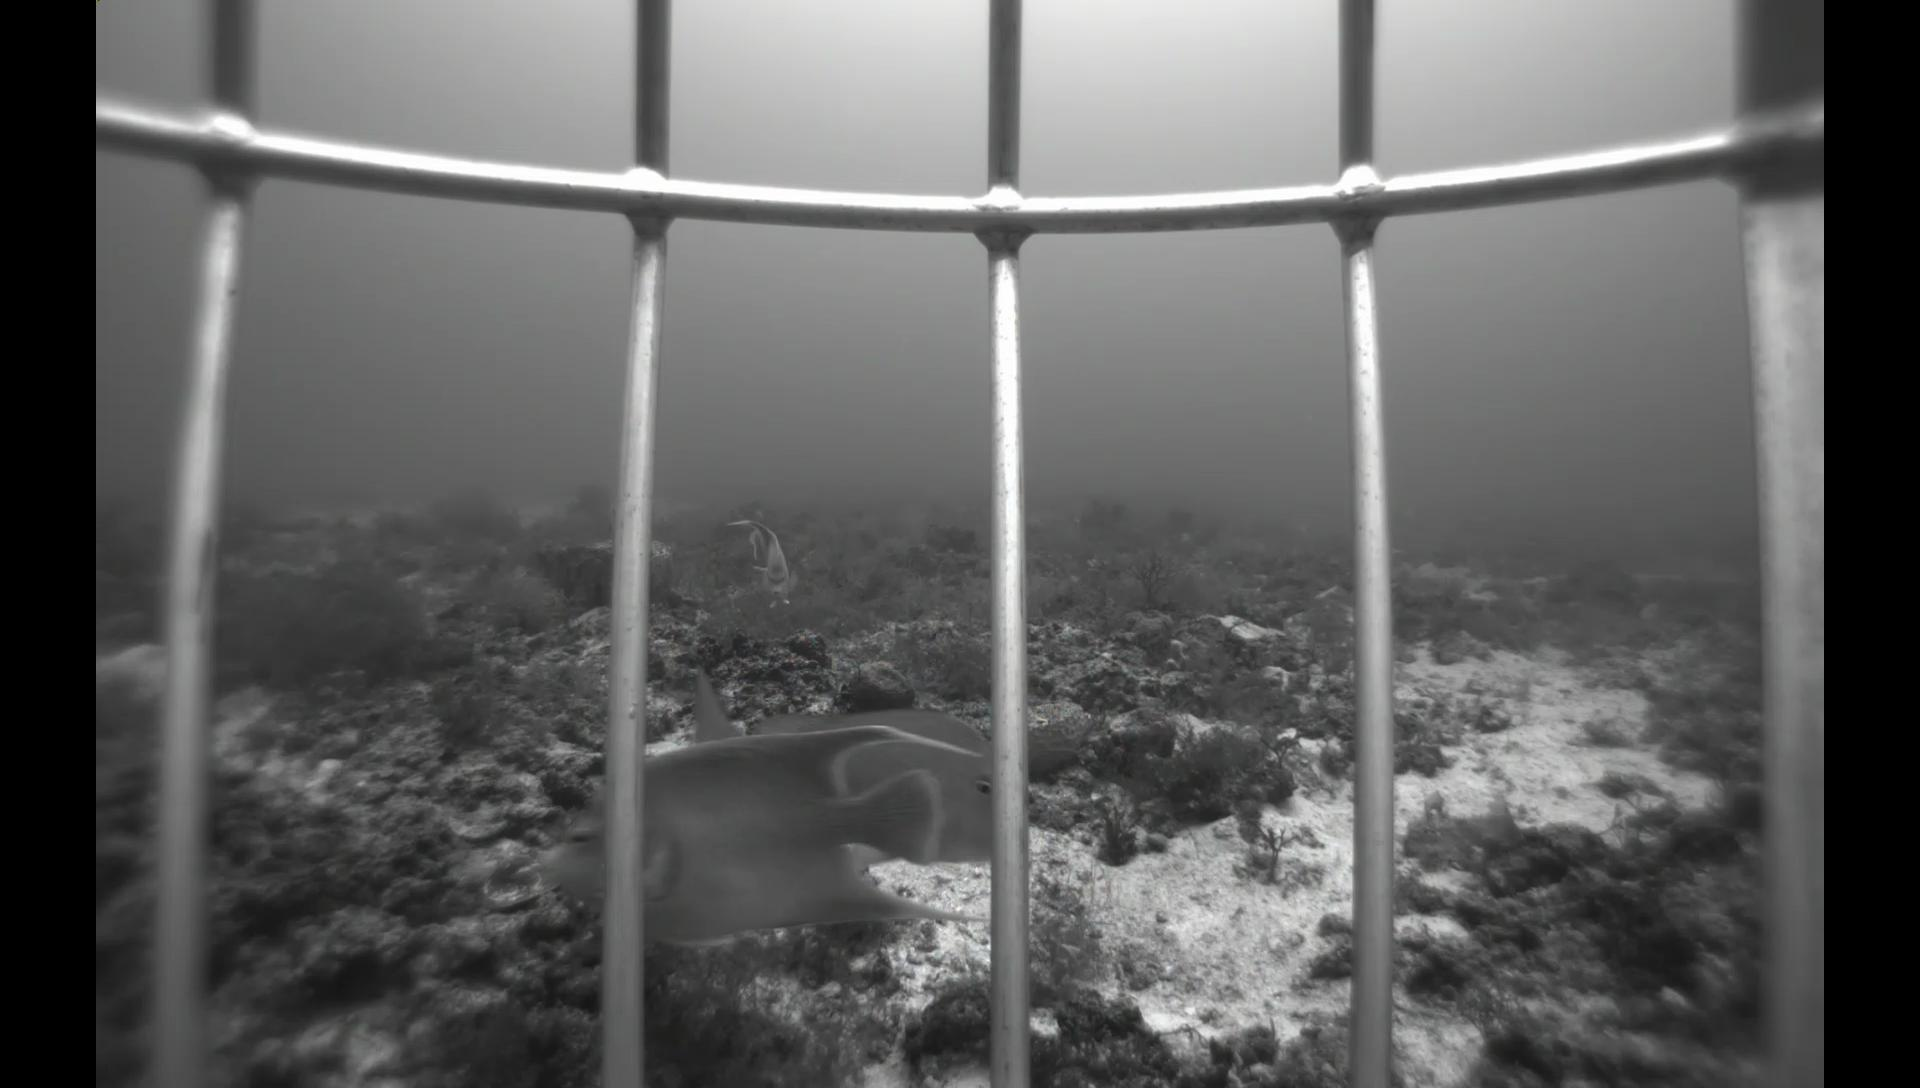CALAMUSNODOSUS-170210608: (683, 663, 994, 870)
HOLACANTHUSBERMUDENSIS-170290102: (510, 717, 992, 953), (717, 512, 808, 619)
MYCTEROPERCAPHENAX-170022105: (843, 510, 886, 557)
